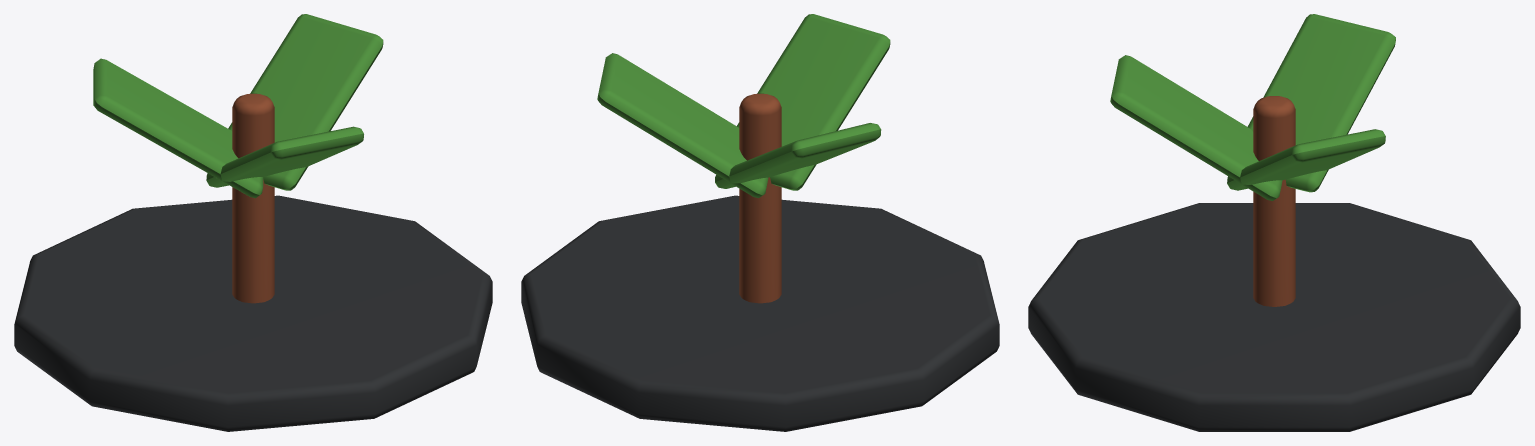
Rendered from camp-sprout.glb.
The picture shows the model from 3 angles, left to right: view 1: azimuth 30°, elevation 25°; view 2: azimuth 150°, elevation 25°; view 3: azimuth 270°, elevation 25°; orthographic projection.
Parts seen in each view (by area): view 1: camp-sprout; view 2: camp-sprout; view 3: camp-sprout.
Part boxes in pixels (x1,y1,x2,y2): camp-sprout: (14, 14, 492, 431); camp-sprout: (521, 14, 999, 431); camp-sprout: (1028, 14, 1520, 431).
Size of the model in its own units: 0.9891 by 0.6002 by 1.04.
